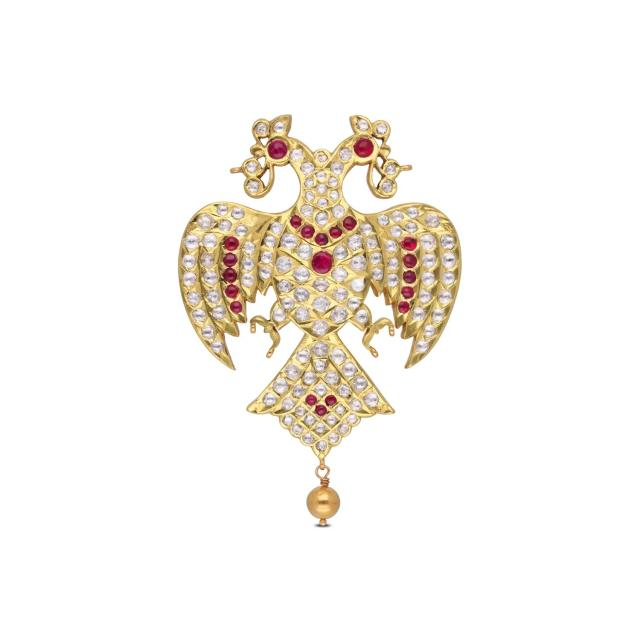missing gem: (351, 279, 364, 291), (247, 214, 258, 224), (380, 146, 391, 155), (252, 146, 262, 155)
